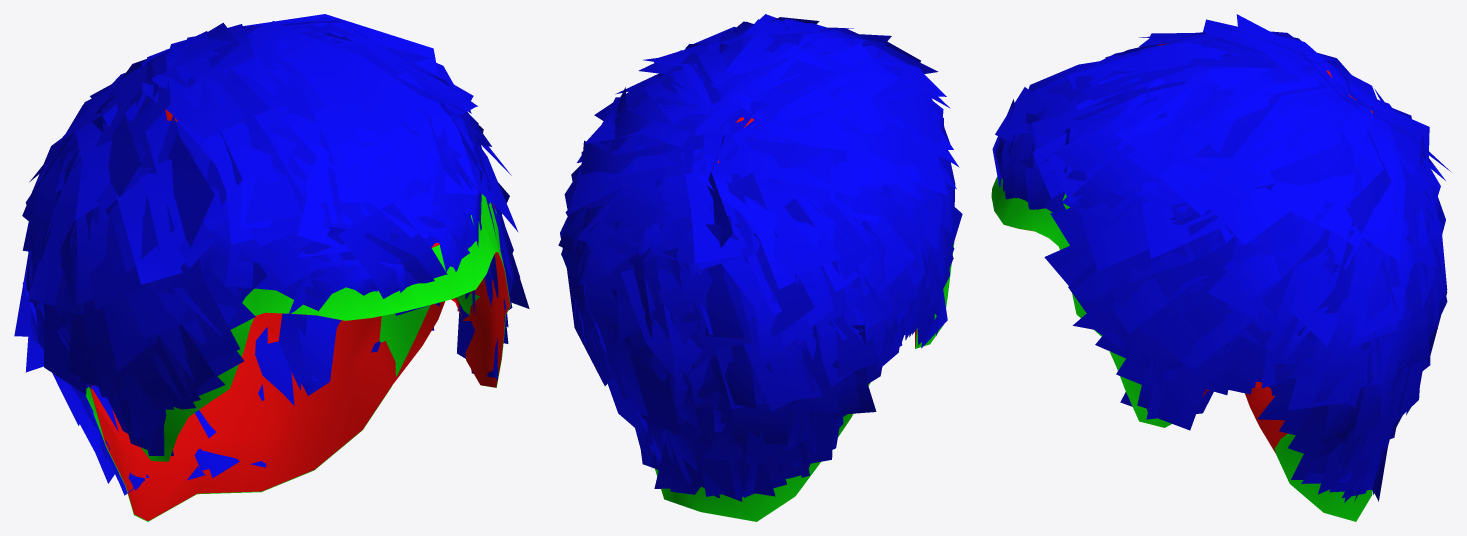
Rendered from hair_010.obj.
The picture shows the model from 3 angles, left to right: view 1: azimuth 30°, elevation 25°; view 2: azimuth 150°, elevation 25°; view 3: azimuth 270°, elevation 25°; orthographic projection. The views are drawn at different scales.
Bounding box in the file's own units: 18.34 × 21.81 × 20.01.
